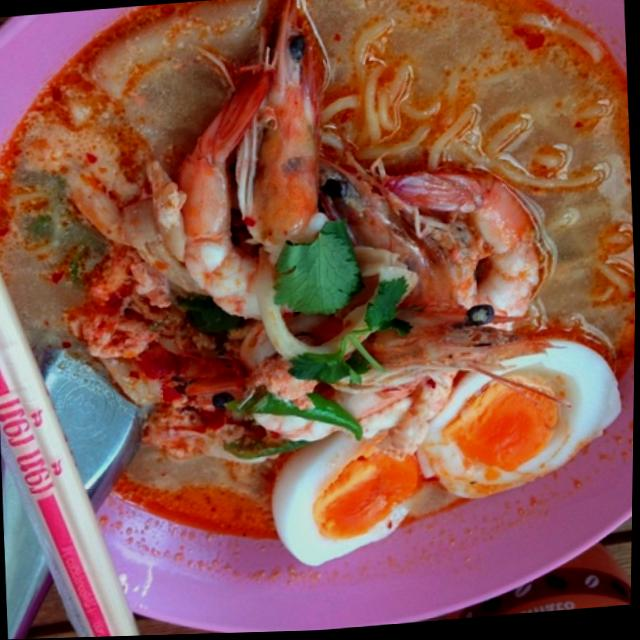汤锅炖物: (58, 0, 634, 557)
